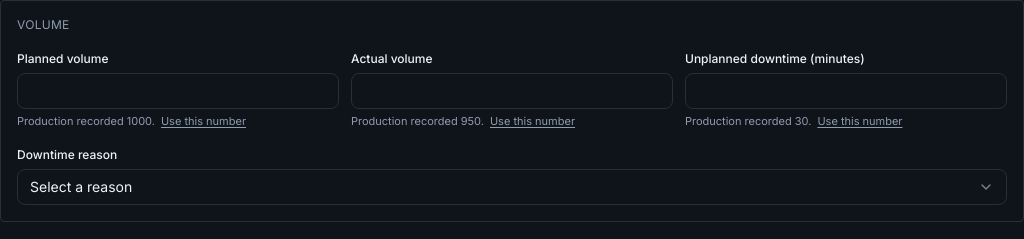
Test case: VolumePillar › marks a field manual the moment the typed number differs from the derived one
The image size is (1024, 239).
Expected: the text "Production recorded 950." is shown, [351,113,484,129]
Step 1. Type "900" into the number field labelled "Actual volume" → [512, 91], box [351,73,673,109]
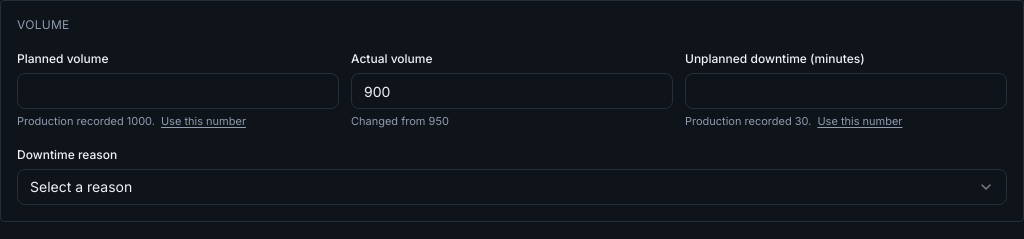
Now the text "Changed from 950" is shown, box [351,114,449,128]
